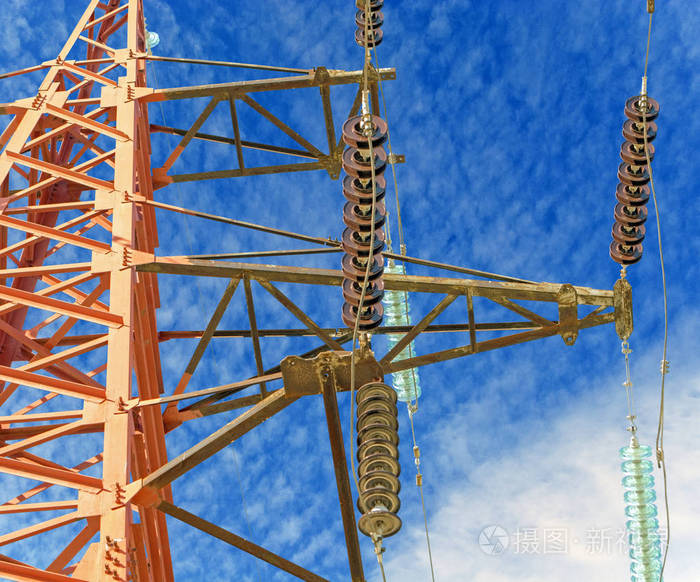insulator: (338, 116, 383, 331), (609, 96, 660, 265), (353, 382, 402, 538), (621, 443, 665, 582), (381, 262, 424, 403), (350, 1, 387, 47)
